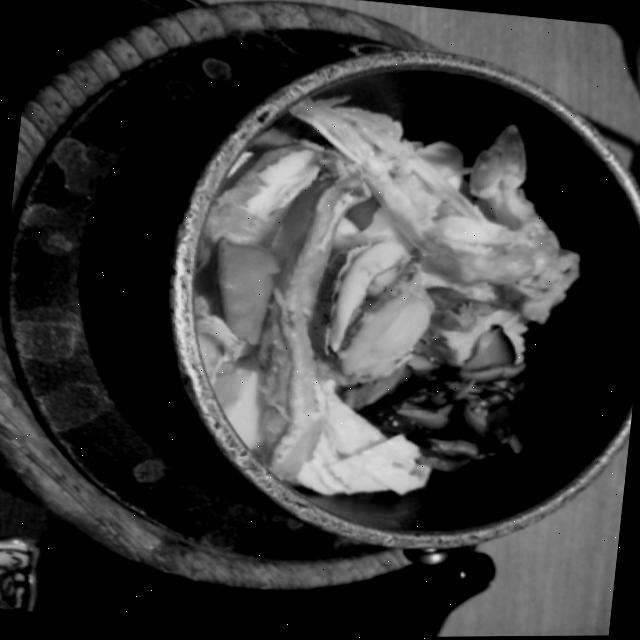刺身生食: (23, 0, 640, 640)
